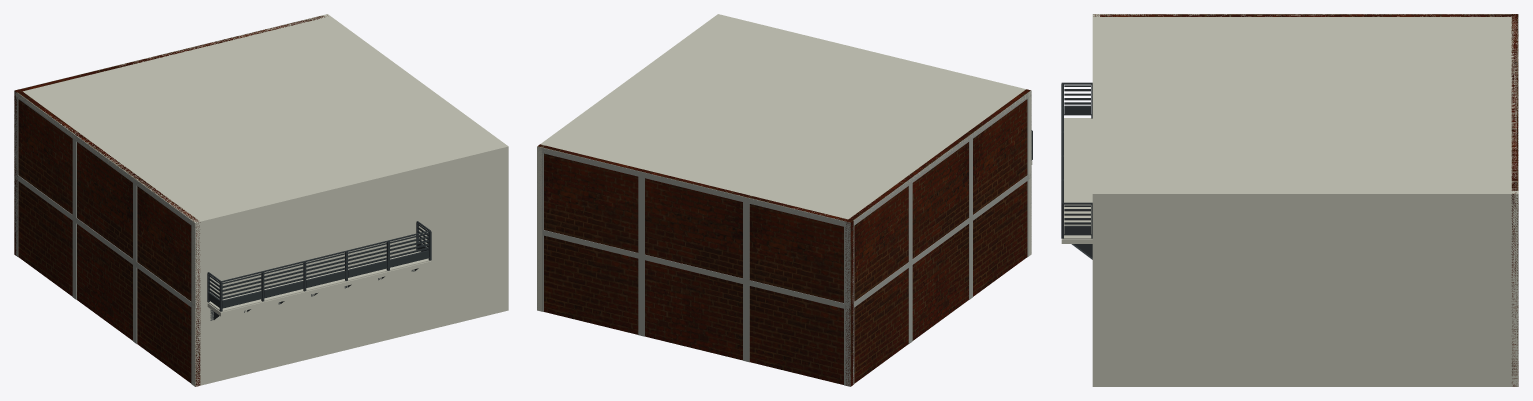
The model's file is building.glb.
The picture shows the model from 3 angles, left to right: view 1: azimuth 30°, elevation 25°; view 2: azimuth 150°, elevation 25°; view 3: azimuth 270°, elevation 25°; orthographic projection. The views are drawn at different scales.
Visible parts, largest first — view 1: roof/house:0/roof_slab#0001, house:0/edge0/z0/house:0/edge0/z0/wall_0_0, house:0/edge3/z0/house:0/edge3/z0/wall_0_0, house:0/edge2/z0/house:0/edge2/z0/wall_0_0, house:0/edge3/z0/house:0/edge3/z0/beam_0_0, house:0/edge3/z0/house:0/edge3/z0/beam_1_0, balcony/sample/balcony_platform#0001, house:0/edge1/z0/house:0/edge1/z0/wall_0_0, balcony/sample/balcony_fascia#0001, balcony/sample/balcony_handrail#0001; view 2: roof/house:0/roof_slab#0001, house:0/edge2/z0/house:0/edge2/z0/wall_0_0, house:0/edge3/z0/house:0/edge3/z0/wall_0_0, house:0/edge1/z0/house:0/edge1/z0/wall_0_0, house:0/edge2/z0/house:0/edge2/z0/beam_1_0, house:0/edge2/z0/house:0/edge2/z0/beam_0_0, house:0/edge0/z0/house:0/edge0/z0/wall_0_0, house:0/edge3/z0/house:0/edge3/z0/beam_0_0, house:0/edge3/z0/house:0/edge3/z0/beam_1_0, house:0/edge2/z0/house:0/edge2/z0/column_2_0, house:0/edge2/z0/house:0/edge2/z0/column_2_1, house:0/edge2/z0/house:0/edge2/z0/column_3_0 (+3 smaller); view 3: house:0/edge1/z0/house:0/edge1/z0/wall_0_0, roof/house:0/roof_slab#0001, balcony/sample/balcony_platform#0001, house:0/edge0/z0/house:0/edge0/z0/wall_0_0, house:0/edge2/z0/house:0/edge2/z0/wall_0_0, house:0/edge3/z0/house:0/edge3/z0/wall_0_0, balcony/sample/balcony_handrail#0001.
Boxes of the visible parts, x1,y1,x2,y2 form: roof/house:0/roof_slab#0001: [15, 14, 506, 225]; house:0/edge0/z0/house:0/edge0/z0/wall_0_0: [192, 144, 508, 386]; house:0/edge3/z0/house:0/edge3/z0/wall_0_0: [17, 89, 200, 386]; house:0/edge2/z0/house:0/edge2/z0/wall_0_0: [14, 15, 327, 255]; house:0/edge3/z0/house:0/edge3/z0/beam_0_0: [14, 173, 195, 309]; house:0/edge3/z0/house:0/edge3/z0/beam_1_0: [14, 92, 195, 227]; balcony/sample/balcony_platform#0001: [208, 251, 429, 312]; house:0/edge1/z0/house:0/edge1/z0/wall_0_0: [323, 14, 508, 311]; balcony/sample/balcony_fascia#0001: [207, 261, 430, 316]; balcony/sample/balcony_handrail#0001: [207, 221, 430, 282]; roof/house:0/roof_slab#0001: [540, 14, 1031, 223]; house:0/edge2/z0/house:0/edge2/z0/wall_0_0: [538, 144, 853, 386]; house:0/edge3/z0/house:0/edge3/z0/wall_0_0: [845, 89, 1030, 385]; house:0/edge1/z0/house:0/edge1/z0/wall_0_0: [537, 15, 722, 311]; house:0/edge2/z0/house:0/edge2/z0/beam_1_0: [538, 147, 850, 228]; house:0/edge2/z0/house:0/edge2/z0/beam_0_0: [542, 230, 850, 309]; house:0/edge0/z0/house:0/edge0/z0/wall_0_0: [717, 14, 1031, 256]; house:0/edge3/z0/house:0/edge3/z0/beam_0_0: [850, 172, 1031, 309]; house:0/edge3/z0/house:0/edge3/z0/beam_1_0: [850, 90, 1031, 227]; house:0/edge2/z0/house:0/edge2/z0/column_2_0: [638, 176, 644, 254]; house:0/edge2/z0/house:0/edge2/z0/column_2_1: [638, 258, 644, 336]; house:0/edge2/z0/house:0/edge2/z0/column_3_0: [743, 202, 749, 280]; house:0/edge1/z0/house:0/edge1/z0/wall_0_0: [1092, 191, 1518, 386]; roof/house:0/roof_slab#0001: [1092, 14, 1518, 198]; balcony/sample/balcony_platform#0001: [1063, 118, 1092, 239]; house:0/edge0/z0/house:0/edge0/z0/wall_0_0: [1092, 14, 1099, 386]; house:0/edge2/z0/house:0/edge2/z0/wall_0_0: [1511, 14, 1518, 386]; house:0/edge3/z0/house:0/edge3/z0/wall_0_0: [1093, 14, 1517, 16]; balcony/sample/balcony_handrail#0001: [1061, 82, 1092, 204].
Size of the model in its own units: 12 by 6 by 12.89.
4 materials, 1 textured.
